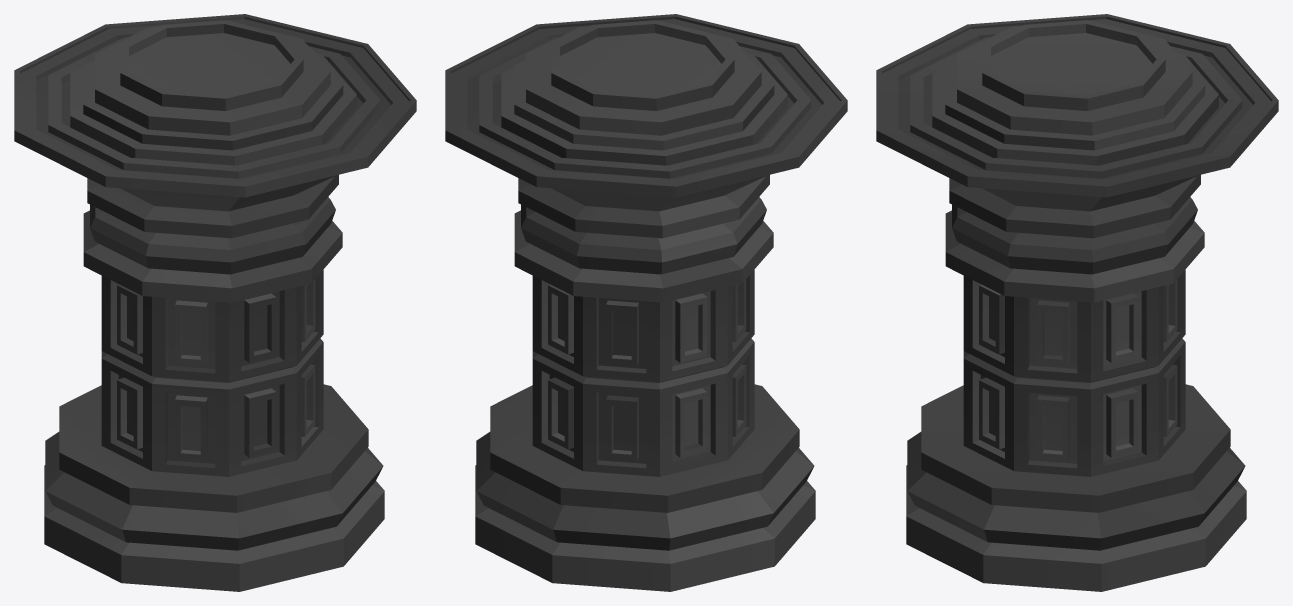
File: pillarnew.fbx
3 views of the same model, side by side, from view 1: azimuth 30°, elevation 25°; view 2: azimuth 150°, elevation 25°; view 3: azimuth 270°, elevation 25° (orthographic).
Visible parts, largest first — view 1: Cylinder; view 2: Cylinder; view 3: Cylinder.
Boxes of the visible parts, x1,y1,x2,y2 form: Cylinder: [14, 14, 416, 591]; Cylinder: [445, 14, 847, 591]; Cylinder: [876, 14, 1278, 591].
Size of the model in its own units: 233 by 289 by 229.
